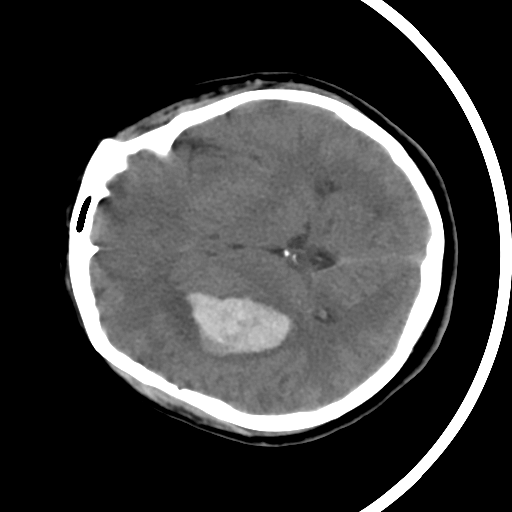a: (142, 268, 316, 371)
